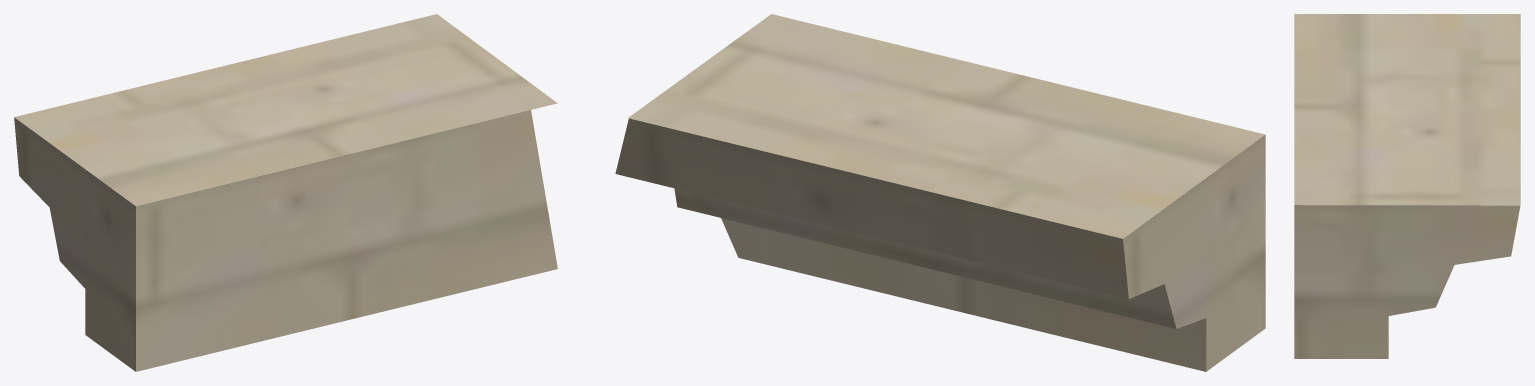
File: debris_dc_cornice.glb
3 views of the same model, side by side, from view 1: azimuth 30°, elevation 25°; view 2: azimuth 150°, elevation 25°; view 3: azimuth 270°, elevation 25° (orthographic). The views are drawn at different scales.
Parts seen in each view (by area): view 1: debris_dc_cornice; view 2: debris_dc_cornice; view 3: debris_dc_cornice.
Boxes of the visible parts, <box> form: debris_dc_cornice: <box>14,14,557,371</box>; debris_dc_cornice: <box>615,14,1265,371</box>; debris_dc_cornice: <box>1294,14,1520,358</box>.
Size of the model in its own units: 2.56 by 0.9001 by 1.2.
Materials: 1 (1 with a texture image).
